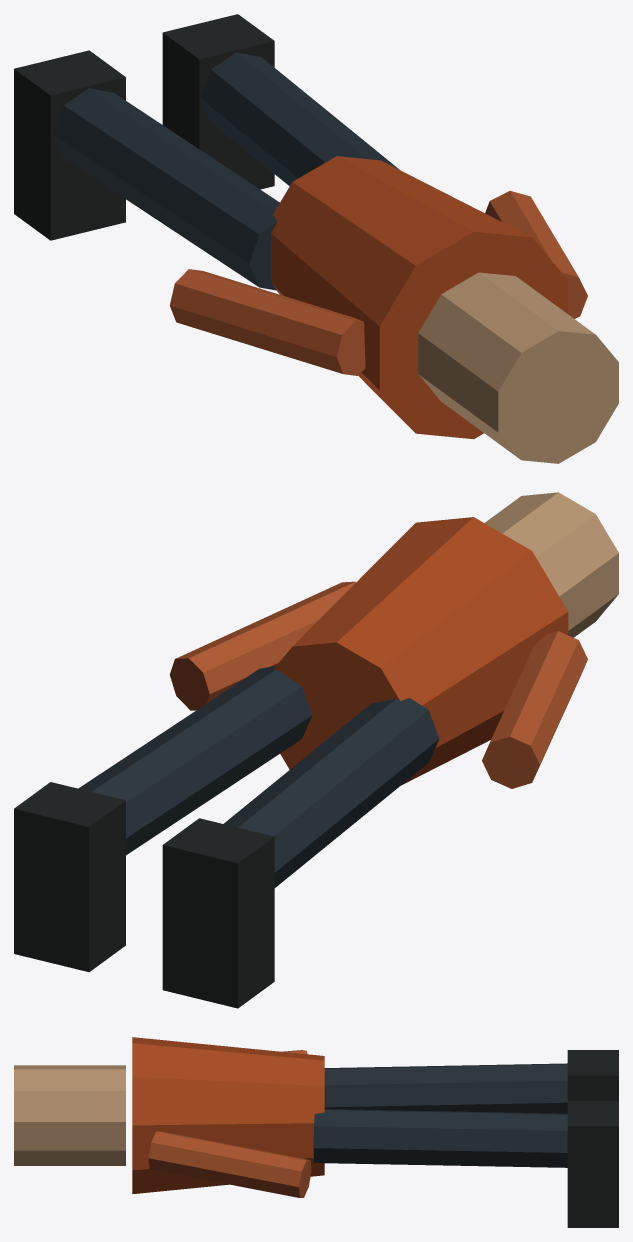
Rendered from person.glb.
3 views of the same model, one above another, from view 1: azimuth 30°, elevation 25°; view 2: azimuth 150°, elevation 25°; view 3: azimuth 270°, elevation 25° (orthographic). The views are drawn at different scales.
Visible parts, largest first — view 1: Synthetic person; view 2: Synthetic person; view 3: Synthetic person.
Part boxes in pixels (x1,y1,x2,y2): Synthetic person: (14, 14, 618, 463); Synthetic person: (14, 492, 618, 1008); Synthetic person: (14, 1037, 618, 1227).
Size of the model in its own units: 0.9339 by 0.505 by 1.89.
